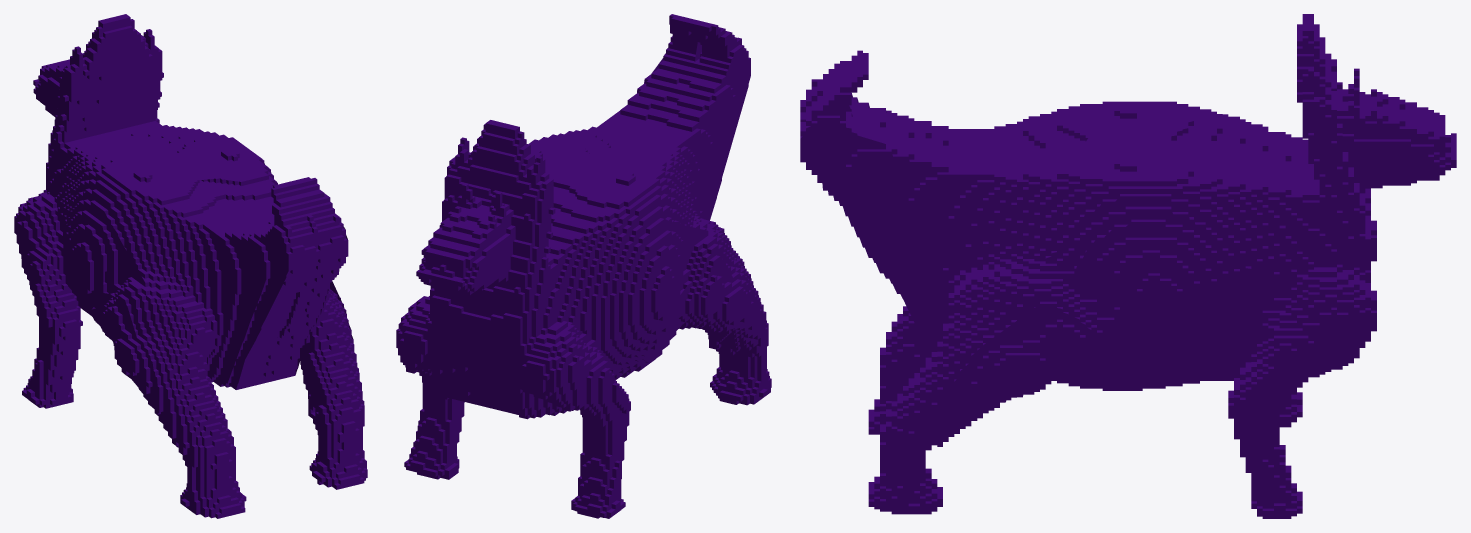
Rendered from Triceratops.fbx.
The picture shows the model from 3 angles, left to right: view 1: azimuth 30°, elevation 25°; view 2: azimuth 150°, elevation 25°; view 3: azimuth 270°, elevation 25°; orthographic projection. The views are drawn at different scales.
Parts seen in each view (by area): view 1: Triceraptops.001; view 2: Triceraptops.001; view 3: Triceraptops.001.
Part boxes in pixels (x1=…): Triceraptops.001: x1=14, y1=14, x2=367, y2=518; Triceraptops.001: x1=396, y1=14, x2=771, y2=518; Triceraptops.001: x1=800, y1=14, x2=1456, y2=518.
Size of the model in its own units: 347 by 556 by 752.
